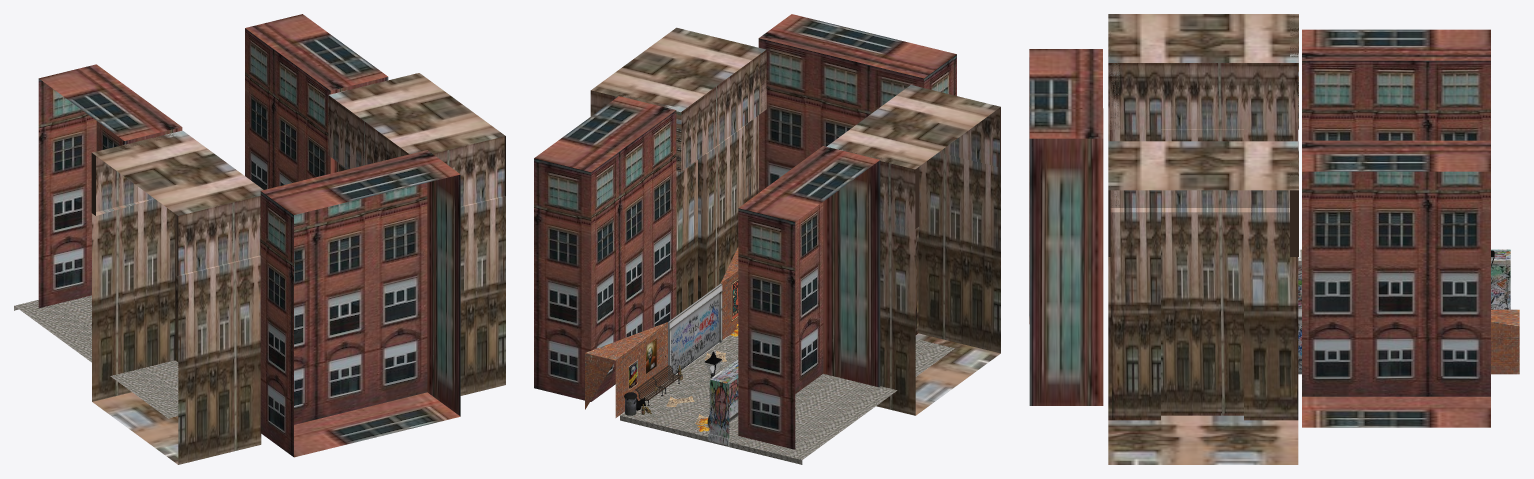
Rendered from street.glb.
3 views of the same model, side by side, from view 1: azimuth 30°, elevation 25°; view 2: azimuth 150°, elevation 25°; view 3: azimuth 270°, elevation 25° (orthographic). The views are drawn at different scales.
Visible parts, largest first — view 1: Cube.006_115, Cube.022_70, Cube.008_112, Cube.009_113, Cube.001_114, Cube.004_0; view 2: Cube.022_70, Cube.001_114, Cube.009_113, Cube.008_112, Cube.006_115, Cube.004_0, Cube.019_3, Cube.002_76, Cube.018_2; view 3: Cube.008_112, Cube.001_114, Cube.006_115, Cube.022_70, Cube.009_113, Cube.019_3, Cube.018_2.
Part boxes in pixels (x1,y1,x2,y2): Cube.006_115: [260, 150, 460, 457]; Cube.022_70: [91, 130, 263, 464]; Cube.008_112: [328, 73, 505, 395]; Cube.009_113: [38, 64, 182, 308]; Cube.001_114: [245, 14, 388, 189]; Cube.004_0: [14, 295, 178, 418]; Cube.022_70: [826, 85, 1000, 415]; Cube.001_114: [534, 96, 676, 401]; Cube.009_113: [738, 146, 880, 449]; Cube.008_112: [590, 27, 766, 315]; Cube.006_115: [758, 14, 956, 192]; Cube.004_0: [620, 332, 954, 464]; Cube.019_3: [585, 247, 738, 417]; Cube.002_76: [668, 283, 722, 380]; Cube.018_2: [708, 359, 738, 446]; Cube.008_112: [1108, 141, 1298, 464]; Cube.001_114: [1302, 140, 1490, 427]; Cube.006_115: [1029, 49, 1103, 405]; Cube.022_70: [1108, 14, 1298, 141]; Cube.009_113: [1302, 29, 1490, 140]; Cube.019_3: [1491, 309, 1519, 374]; Cube.018_2: [1298, 249, 1510, 309].
Bounding box in the file's own units: 25.55 × 19.1 × 30.
23 materials, 17 textured.
